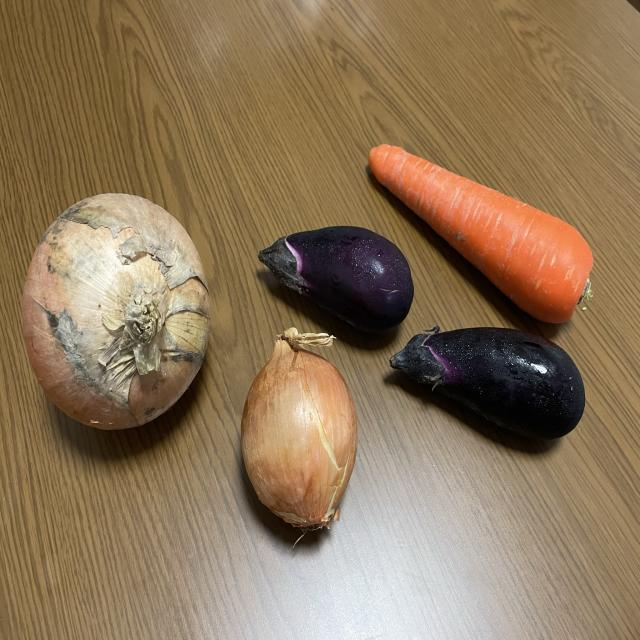carrot: (369, 147, 611, 325)
eggplant: (393, 321, 586, 454), (254, 224, 421, 340)
onion: (21, 189, 219, 447), (240, 339, 360, 544)
